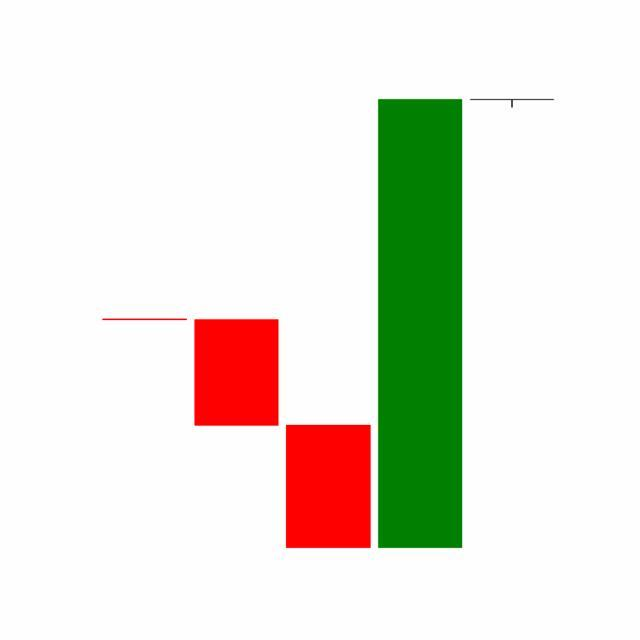Hammer: (466, 99, 559, 108)
